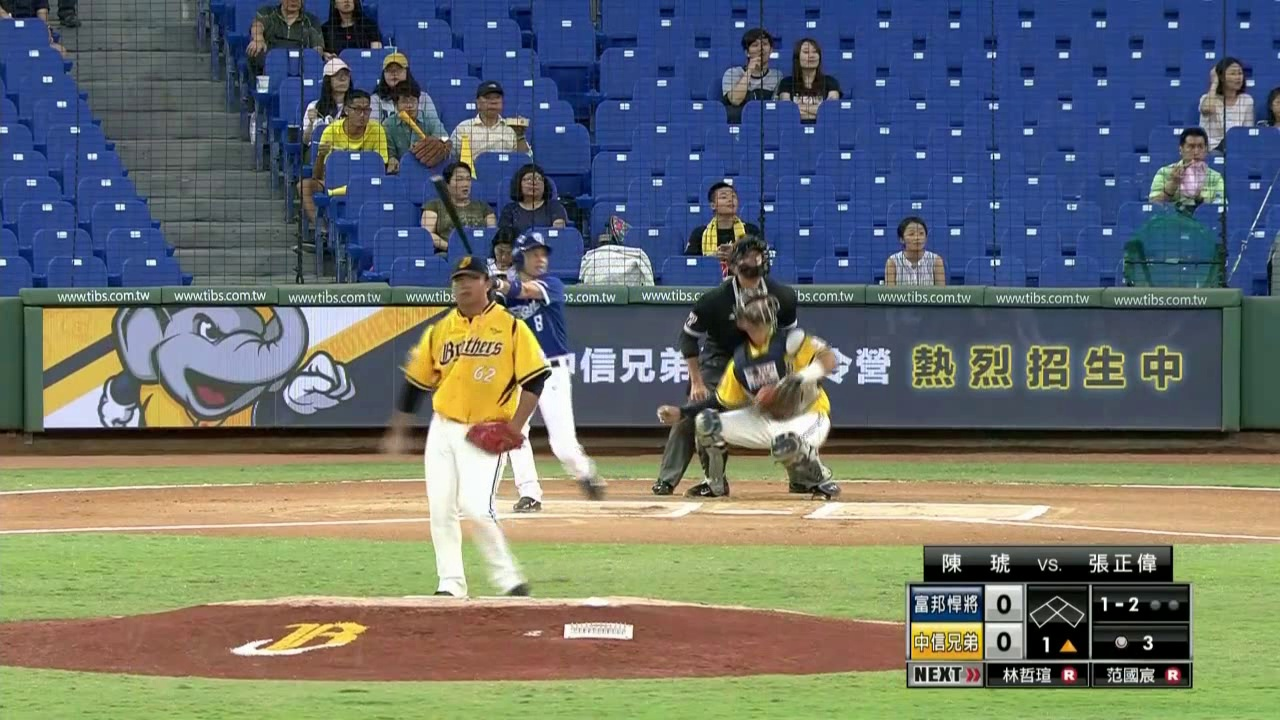base: (1024, 590, 1088, 634)
bat: (436, 179, 478, 261)
out: (1145, 594, 1183, 614)
score1: (991, 592, 1019, 621)
score2: (992, 626, 1014, 656)
session: (1027, 632, 1087, 656)
strikeball: (1095, 594, 1144, 617)
total: (1107, 633, 1165, 655)
